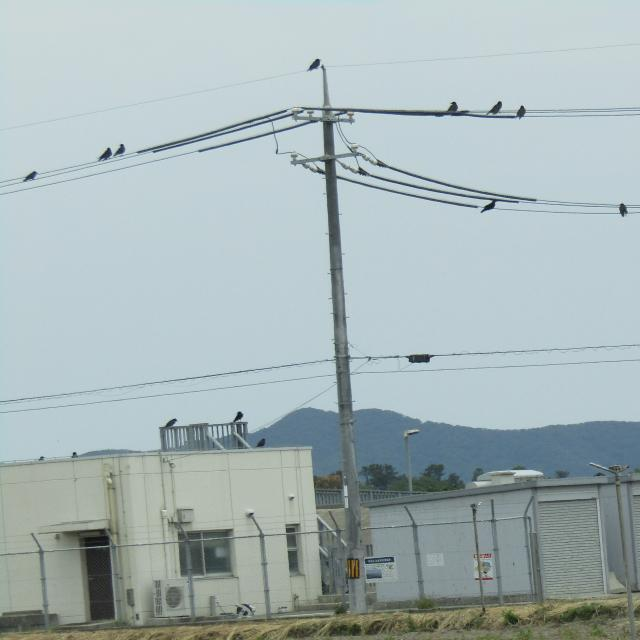pole: (274, 38, 420, 620)
